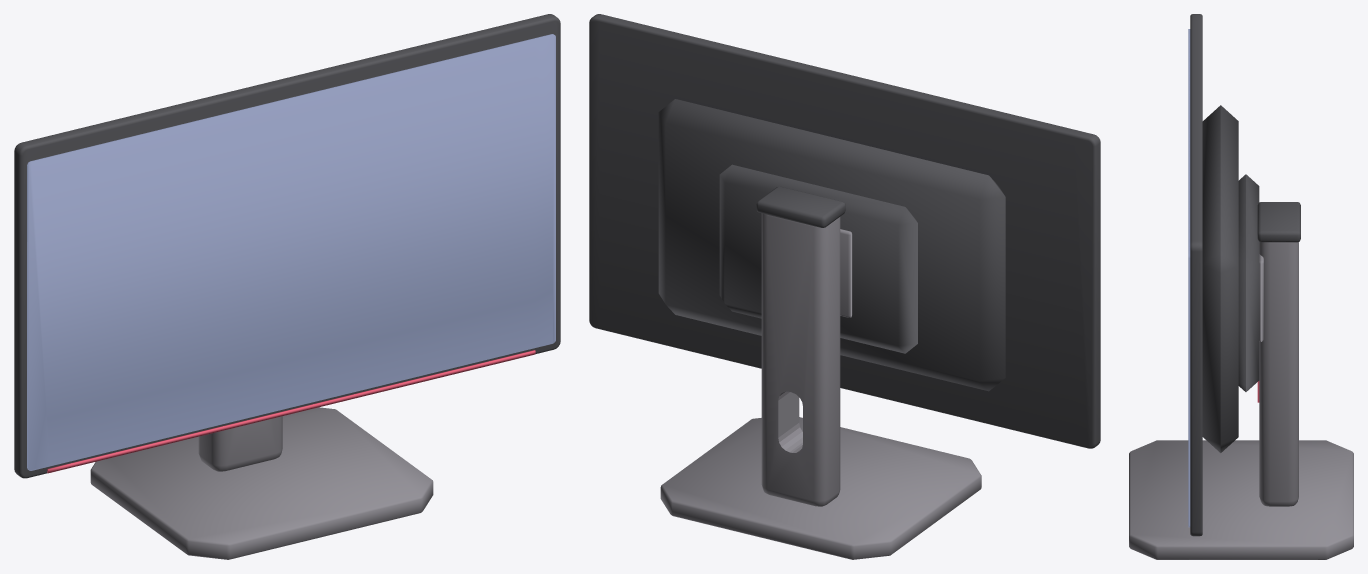
File: monitor-flat.glb
3 views of the same model, side by side, from view 1: azimuth 30°, elevation 25°; view 2: azimuth 150°, elevation 25°; view 3: azimuth 270°, elevation 25° (orthographic). The views are drawn at different scales.
Visible parts, largest first — view 1: monitor-flat; view 2: monitor-flat; view 3: monitor-flat.
Boxes of the visible parts, <box> form: monitor-flat: <box>14,14,560,559</box>; monitor-flat: <box>589,14,1100,559</box>; monitor-flat: <box>1129,14,1353,559</box>.
Size of the model in its own units: 0.614 by 0.465 by 0.25.
